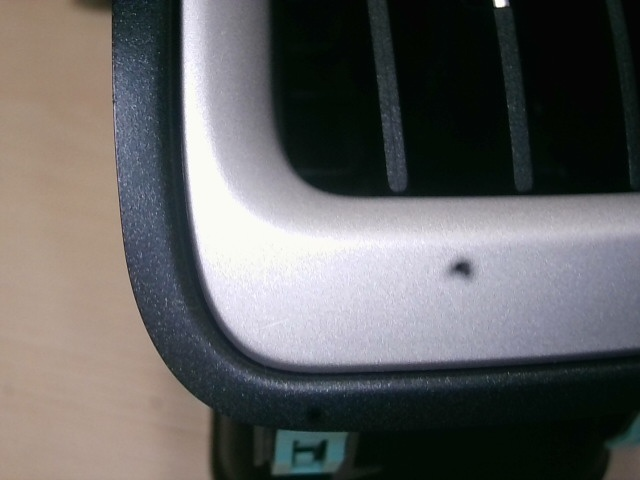NG: (256, 311, 302, 339)
